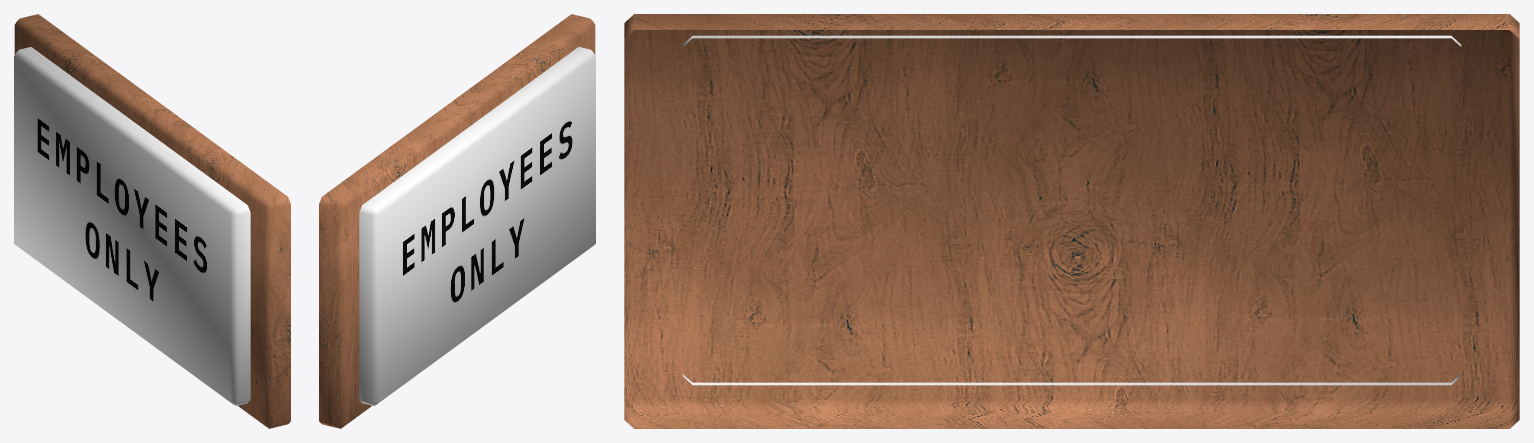
The model's file is Employees Only Plaque.fbx.
3 views of the same model, side by side, from view 1: azimuth 30°, elevation 25°; view 2: azimuth 150°, elevation 25°; view 3: azimuth 270°, elevation 25° (orthographic). The views are drawn at different scales.
Parts seen in each view (by area): view 1: Employees Only; view 2: Employees Only; view 3: Employees Only.
Boxes of the visible parts, bbox=[...] form: Employees Only: bbox=[14, 14, 290, 428]; Employees Only: bbox=[319, 14, 595, 428]; Employees Only: bbox=[624, 14, 1519, 428].
Bounding box in the file's own units: 4.44 × 23.63 × 48.07.
